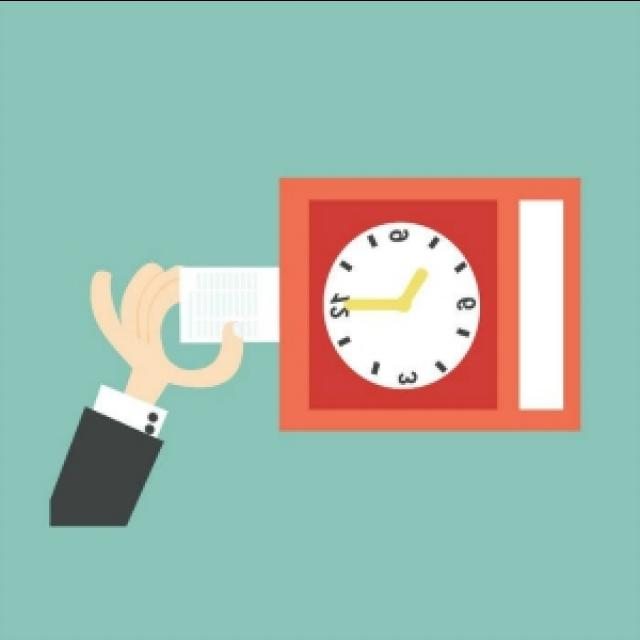clock: (160, 56, 630, 466)
